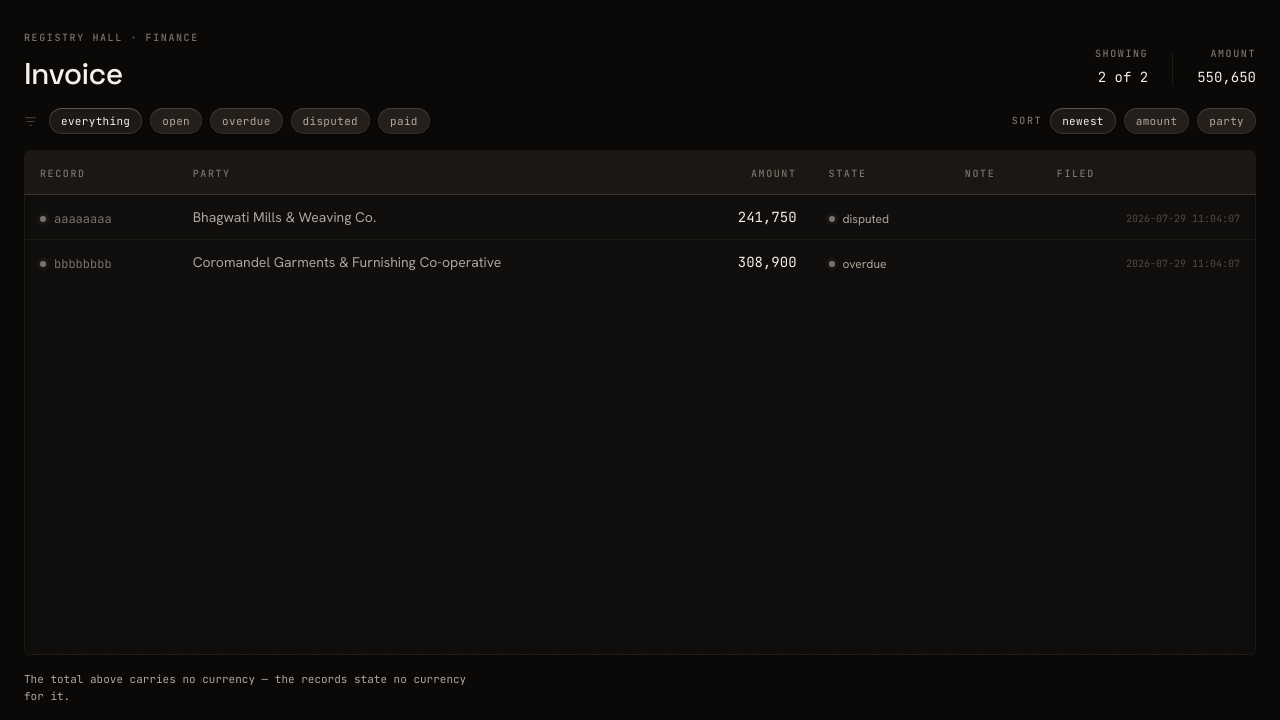
Scenario: the Registry Hall's total › prints no total when a filter matches nothing
Expected: the heading "Invoice" is shown, x1=24 y1=54 x2=123 y2=93
Expected: the table with class "hl-table" is shown, x1=24 y1=150 x2=1256 y2=285
Click the button "paid". click: (404, 121)
box: x1=378 y1=108 x2=430 y2=134
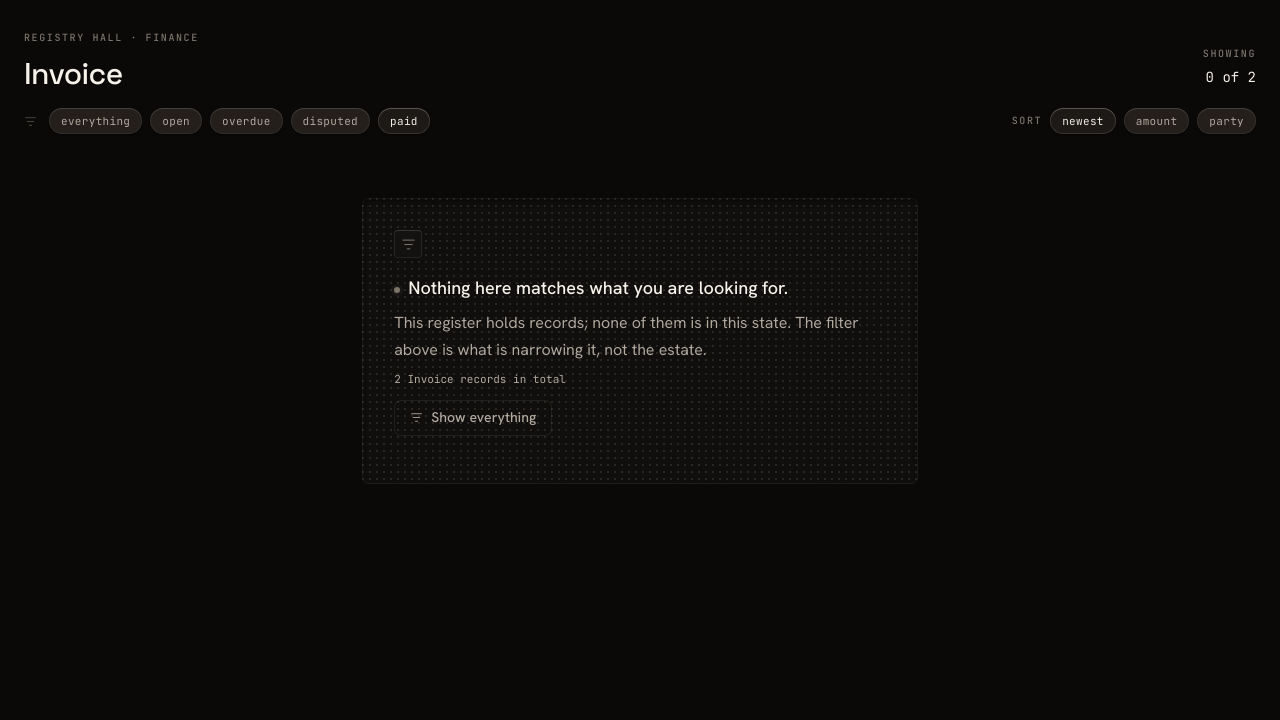
Now the text "Nothing here matches what you are looking for." is shown, box x1=394 y1=276 x2=788 y2=299
Now the text with class "hl-summary-val" reads "0 of 2", box x1=1206 y1=67 x2=1256 y2=88
